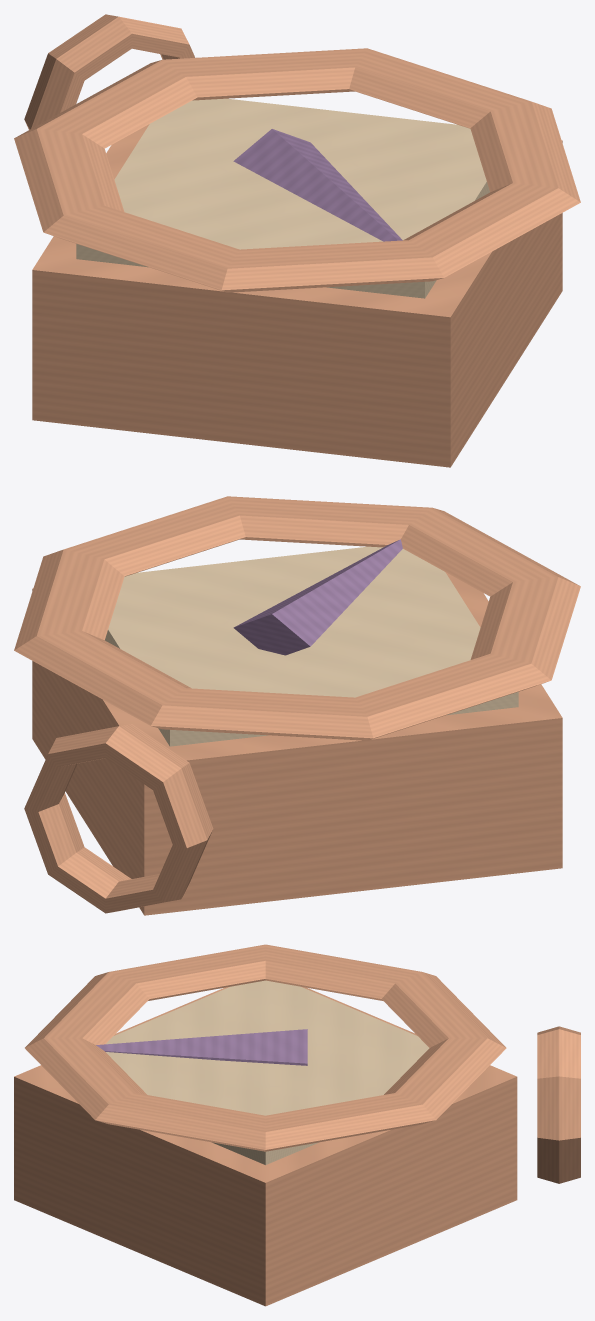
File: atlas100-s088-a05.glb
The picture shows the model from 3 angles, top to bottom: view 1: azimuth 30°, elevation 25°; view 2: azimuth 150°, elevation 25°; view 3: azimuth 270°, elevation 25°; orthographic projection. The views are drawn at different scales.
Visible parts, largest first — view 1: atlas100-s088-a05:part-000, atlas100-s088-a05:part-003, atlas100-s088-a05:part-001, atlas100-s088-a05:part-004, atlas100-s088-a05:part-002; view 2: atlas100-s088-a05:part-000, atlas100-s088-a05:part-003, atlas100-s088-a05:part-001, atlas100-s088-a05:part-004, atlas100-s088-a05:part-002; view 3: atlas100-s088-a05:part-000, atlas100-s088-a05:part-003, atlas100-s088-a05:part-001, atlas100-s088-a05:part-004, atlas100-s088-a05:part-002.
Part boxes in pixels (box(x1,y1,x2,y2)): atlas100-s088-a05:part-000: box(32, 124, 562, 467); atlas100-s088-a05:part-003: box(14, 48, 580, 292); atlas100-s088-a05:part-001: box(76, 98, 489, 298); atlas100-s088-a05:part-004: box(24, 14, 195, 129); atlas100-s088-a05:part-002: box(233, 129, 402, 241); atlas100-s088-a05:part-000: box(32, 572, 562, 915); atlas100-s088-a05:part-003: box(14, 496, 580, 740); atlas100-s088-a05:part-001: box(105, 546, 518, 746); atlas100-s088-a05:part-004: box(24, 724, 213, 913); atlas100-s088-a05:part-002: box(233, 539, 402, 655); atlas100-s088-a05:part-000: box(14, 986, 517, 1306); atlas100-s088-a05:part-003: box(25, 944, 506, 1151); atlas100-s088-a05:part-001: box(106, 980, 429, 1165); atlas100-s088-a05:part-004: box(537, 1026, 580, 1183); atlas100-s088-a05:part-002: box(96, 1029, 307, 1065).
Size of the model in its own units: 0.5242 by 0.1966 by 0.5905.
Materials: 3 (3 with a texture image).
